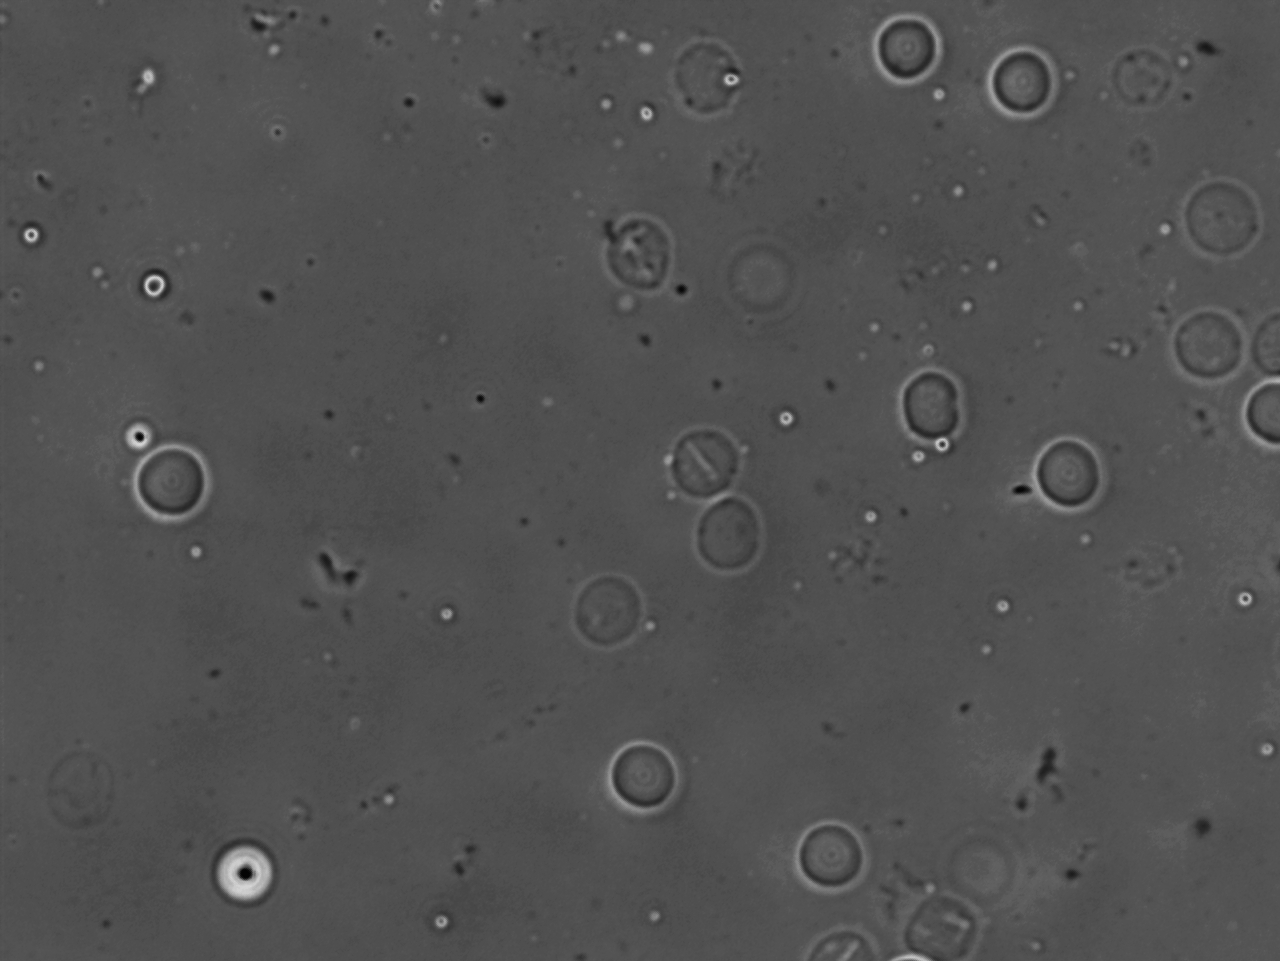depth:0: (117, 434, 226, 537), (779, 802, 879, 907), (873, 352, 971, 458), (1161, 299, 1259, 402), (595, 730, 691, 830), (1020, 429, 1116, 523), (973, 37, 1069, 128), (1235, 355, 1280, 457)
